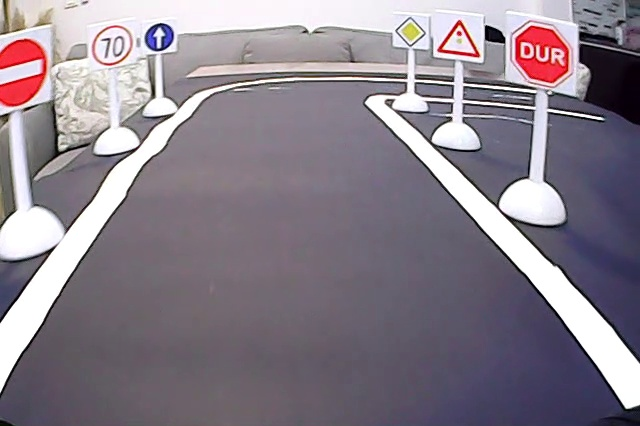do not enter: (1, 36, 51, 111)
red light: (434, 13, 484, 62)
speed limit 70: (91, 24, 134, 66)
stop sign: (507, 18, 575, 90)
